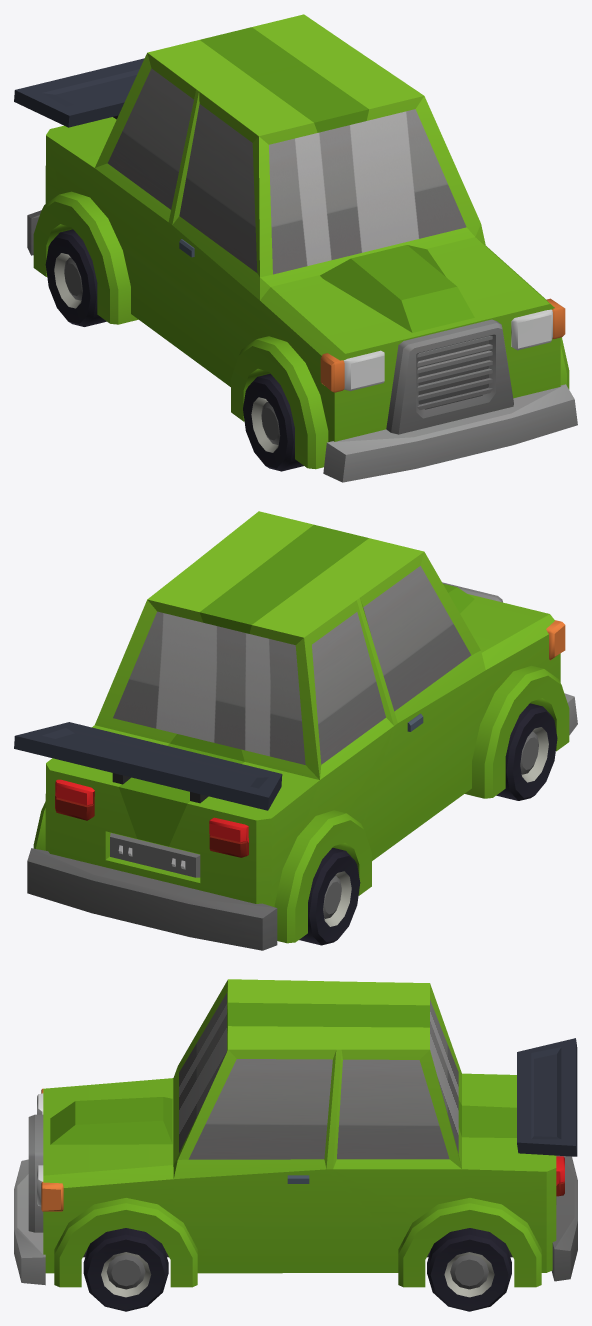
Rendered from SportCar_21.fbx.
3 views of the same model, one above another, from view 1: azimuth 30°, elevation 25°; view 2: azimuth 150°, elevation 25°; view 3: azimuth 270°, elevation 25° (orthographic). The views are drawn at different scales.
Parts seen in each view (by area): view 1: SportCar_21, Wheel_fr, Wheel_br; view 2: SportCar_21, Wheel_br, Wheel_fr; view 3: SportCar_21, Wheel_fl, Wheel_bl.
Part boxes in pixels (x1=…): SportCar_21: x1=14, y1=14, x2=577, y2=482; Wheel_fr: x1=243, y1=373, x2=303, y2=471; Wheel_br: x1=45, y1=229, x2=106, y2=326; SportCar_21: x1=14, y1=511, x2=577, y2=950; Wheel_br: x1=299, y1=847, x2=360, y2=945; Wheel_fr: x1=496, y1=703, x2=557, y2=800; SportCar_21: x1=14, y1=979, x2=577, y2=1287; Wheel_fl: x1=83, y1=1228, x2=168, y2=1311; Wheel_bl: x1=427, y1=1228, x2=511, y2=1311.
Size of the model in its own units: 112 by 110 by 233.
